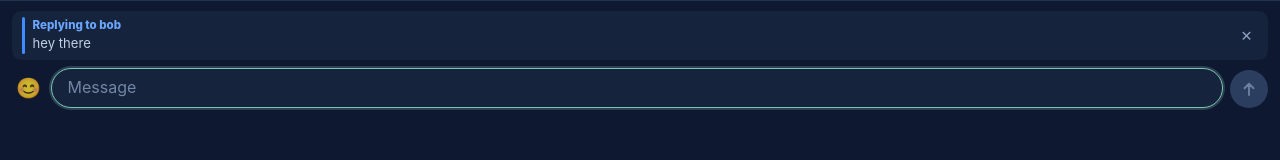
Scenario: MessageCreation › clears the reply target when the cancel button is clicked
The image size is (1280, 160).
Expected: the text "Replying to bob" is shown, [33, 18, 121, 32]
Click the button named "Cancel reply": point(1246, 36) [1234, 24, 1258, 48]
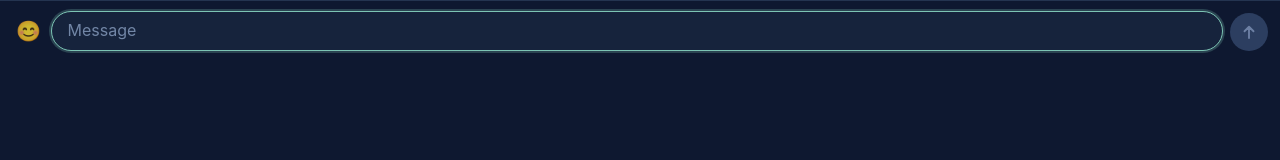
Expected: the text "Replying to bob" is gone
